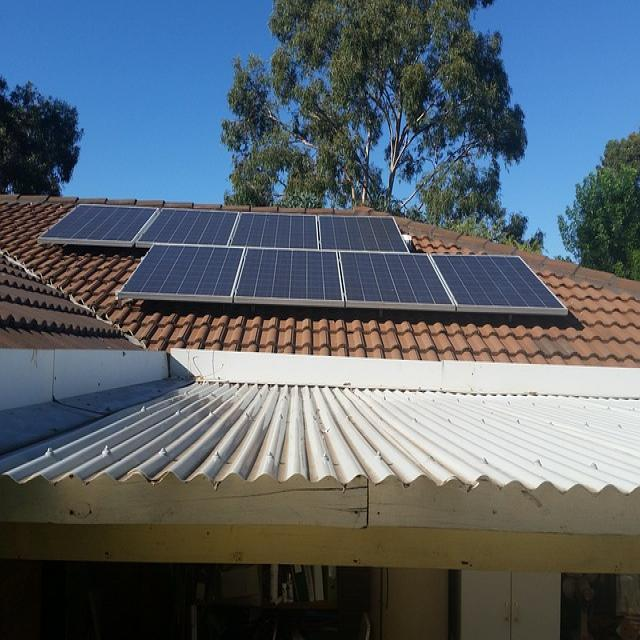clean-solar-panel: (118, 243, 568, 313), (319, 217, 408, 250)
